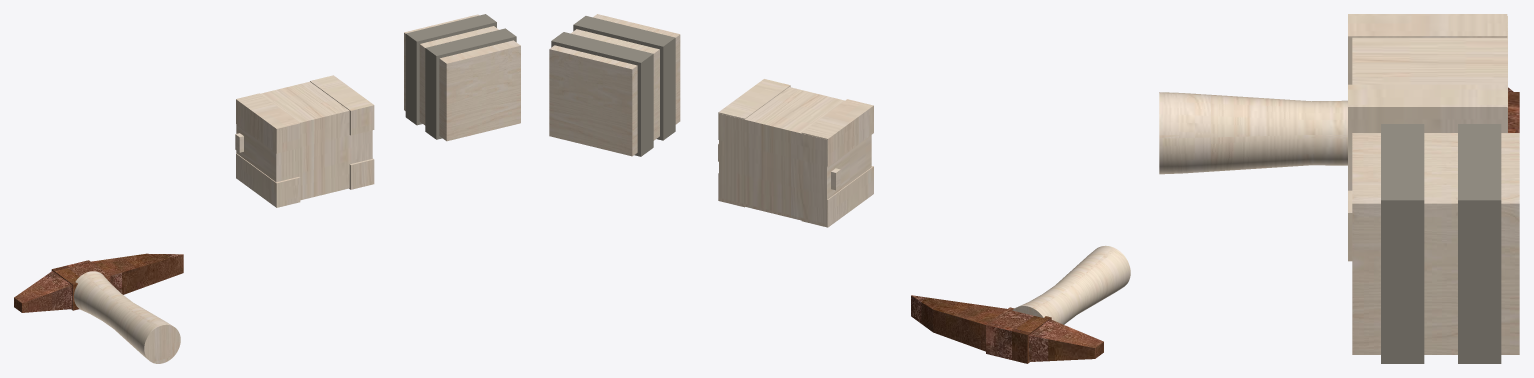
The model's file is utensili3.fbx.
The picture shows the model from 3 angles, left to right: view 1: azimuth 30°, elevation 25°; view 2: azimuth 150°, elevation 25°; view 3: azimuth 270°, elevation 25°; orthographic projection. The views are drawn at different scales.
Visible parts, largest first — view 1: scatola.001, Utensili (1).001, punta; view 2: scatola.001, Utensili (1).001, punta; view 3: Utensili (1).001, scatola.001, punta.
Boxes of the visible parts, x1=… form: scatola.001: x1=235, y1=75, x2=374, y2=207; Utensili (1).001: x1=404, y1=14, x2=520, y2=141; punta: x1=14, y1=253, x2=183, y2=363; scatola.001: x1=718, y1=79, x2=873, y2=227; Utensili (1).001: x1=549, y1=14, x2=680, y2=156; punta: x1=911, y1=245, x2=1130, y2=363; Utensili (1).001: x1=1352, y1=124, x2=1519, y2=363; scatola.001: x1=1348, y1=14, x2=1507, y2=261; punta: x1=1159, y1=87, x2=1519, y2=174.
Bounding box in the file's own units: 645 × 239 × 216.
